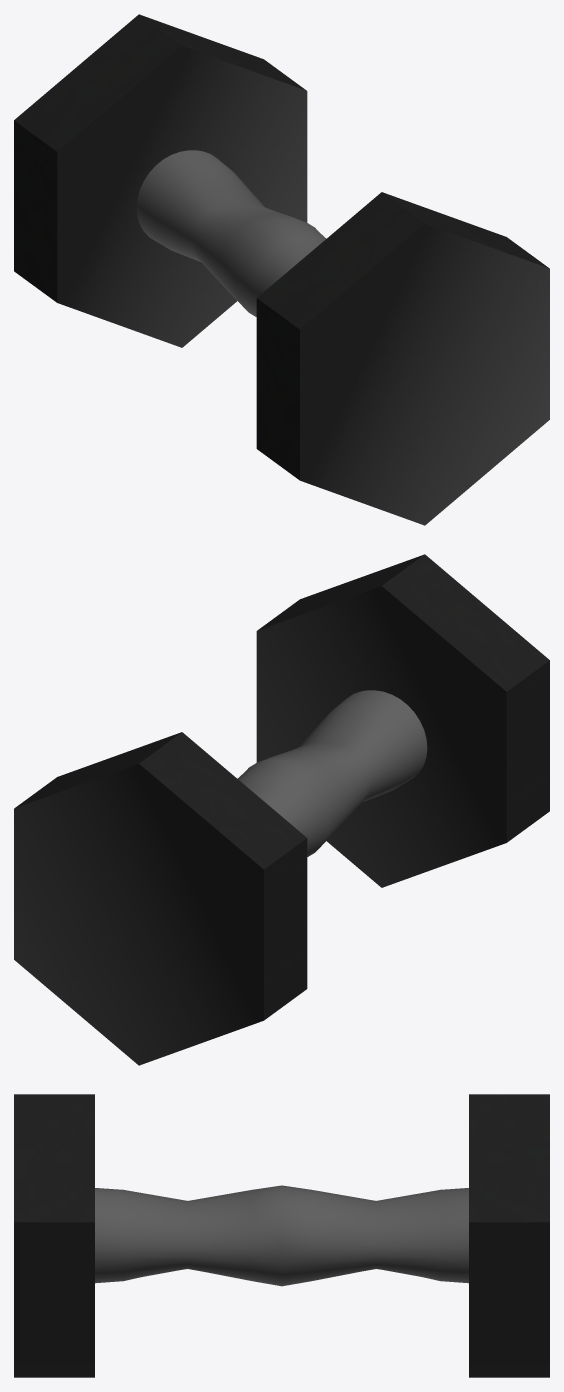
The model's file is dumbell.fbx.
The picture shows the model from 3 angles, top to bottom: view 1: azimuth 30°, elevation 25°; view 2: azimuth 150°, elevation 25°; view 3: azimuth 270°, elevation 25°; orthographic projection. The views are drawn at different scales.
Parts seen in each view (by area): view 1: Cylinder; view 2: Cylinder; view 3: Cylinder.
Part boxes in pixels (<box>): Cylinder: <box>14,14,549,525</box>; Cylinder: <box>14,554,549,1065</box>; Cylinder: <box>14,1094,549,1377</box>.
Size of the model in its own units: 105 by 122 by 209.
